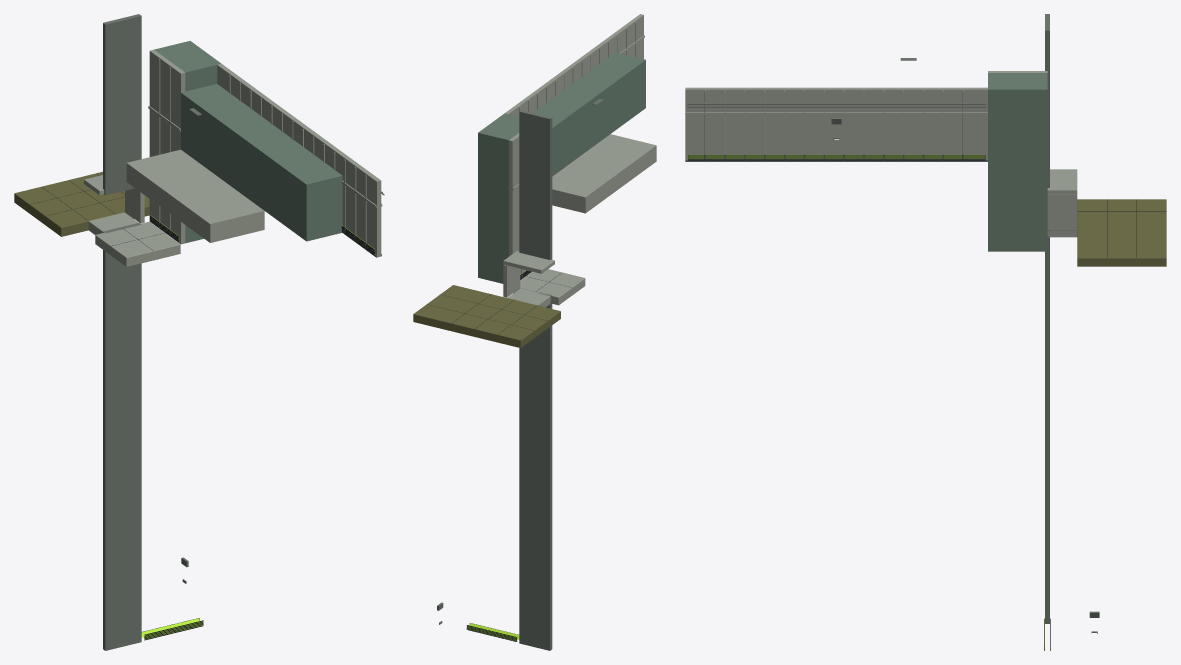
3 views of the same model, side by side, from view 1: azimuth 30°, elevation 25°; view 2: azimuth 150°, elevation 25°; view 3: azimuth 270°, elevation 25° (orthographic). The views are drawn at different scales.
Parts seen in each view (by area): view 1: p1_m2; view 2: p1_m2; view 3: p1_m2.
Part boxes in pixels (x1,y1,x2,y2): p1_m2: [14, 14, 384, 650]; p1_m2: [413, 14, 656, 650]; p1_m2: [685, 14, 1166, 650].
Bounding box in the file's own units: 14.81 × 66 × 48.5.
